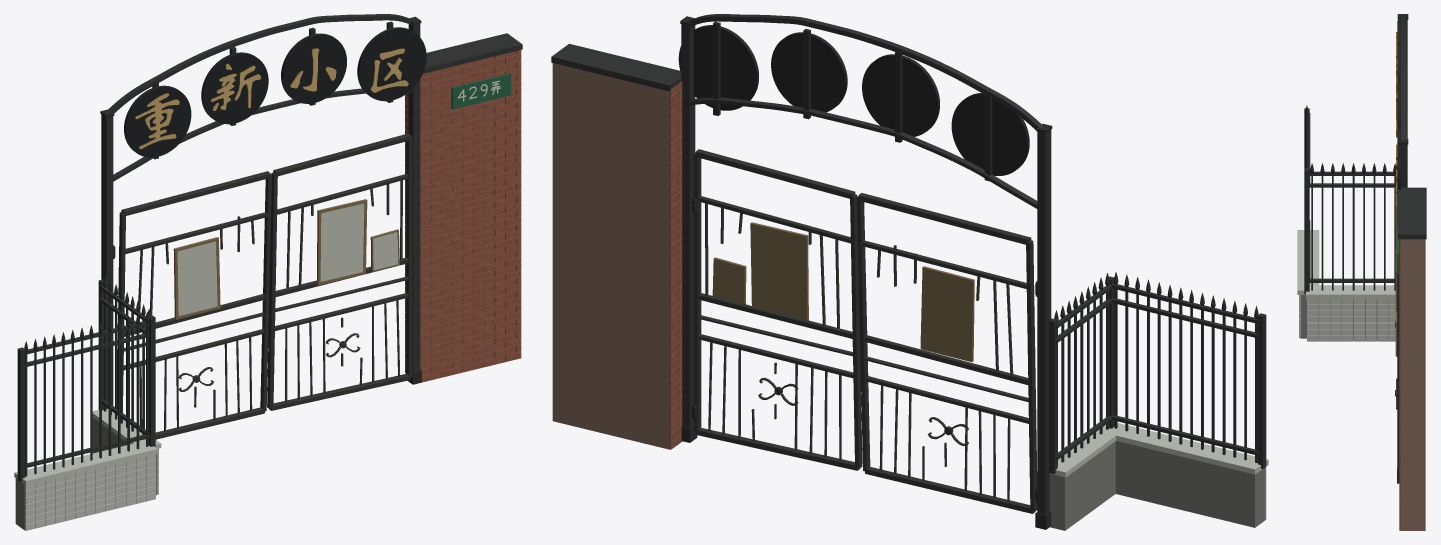
File: huangpu-maris-village-wusheng-curved-gate-raw.glb
The picture shows the model from 3 angles, left to right: view 1: azimuth 30°, elevation 25°; view 2: azimuth 150°, elevation 25°; view 3: azimuth 270°, elevation 25°; orthographic projection. The views are drawn at different scales.
Visible parts, largest first — view 1: 马立斯新村武胜路北门弧形铁架与四字门牌; view 2: 马立斯新村武胜路北门弧形铁架与四字门牌; view 3: 马立斯新村武胜路北门弧形铁架与四字门牌.
Part boxes in pixels (box(x1,y1,x2,y2)): 马立斯新村武胜路北门弧形铁架与四字门牌: box(14, 14, 522, 530); 马立斯新村武胜路北门弧形铁架与四字门牌: box(551, 14, 1268, 530); 马立斯新村武胜路北门弧形铁架与四字门牌: box(1297, 14, 1426, 530).
Bounding box in the file's own units: 5.54 × 3.73 × 1.19.
Materials: 16 (1 with a texture image).
